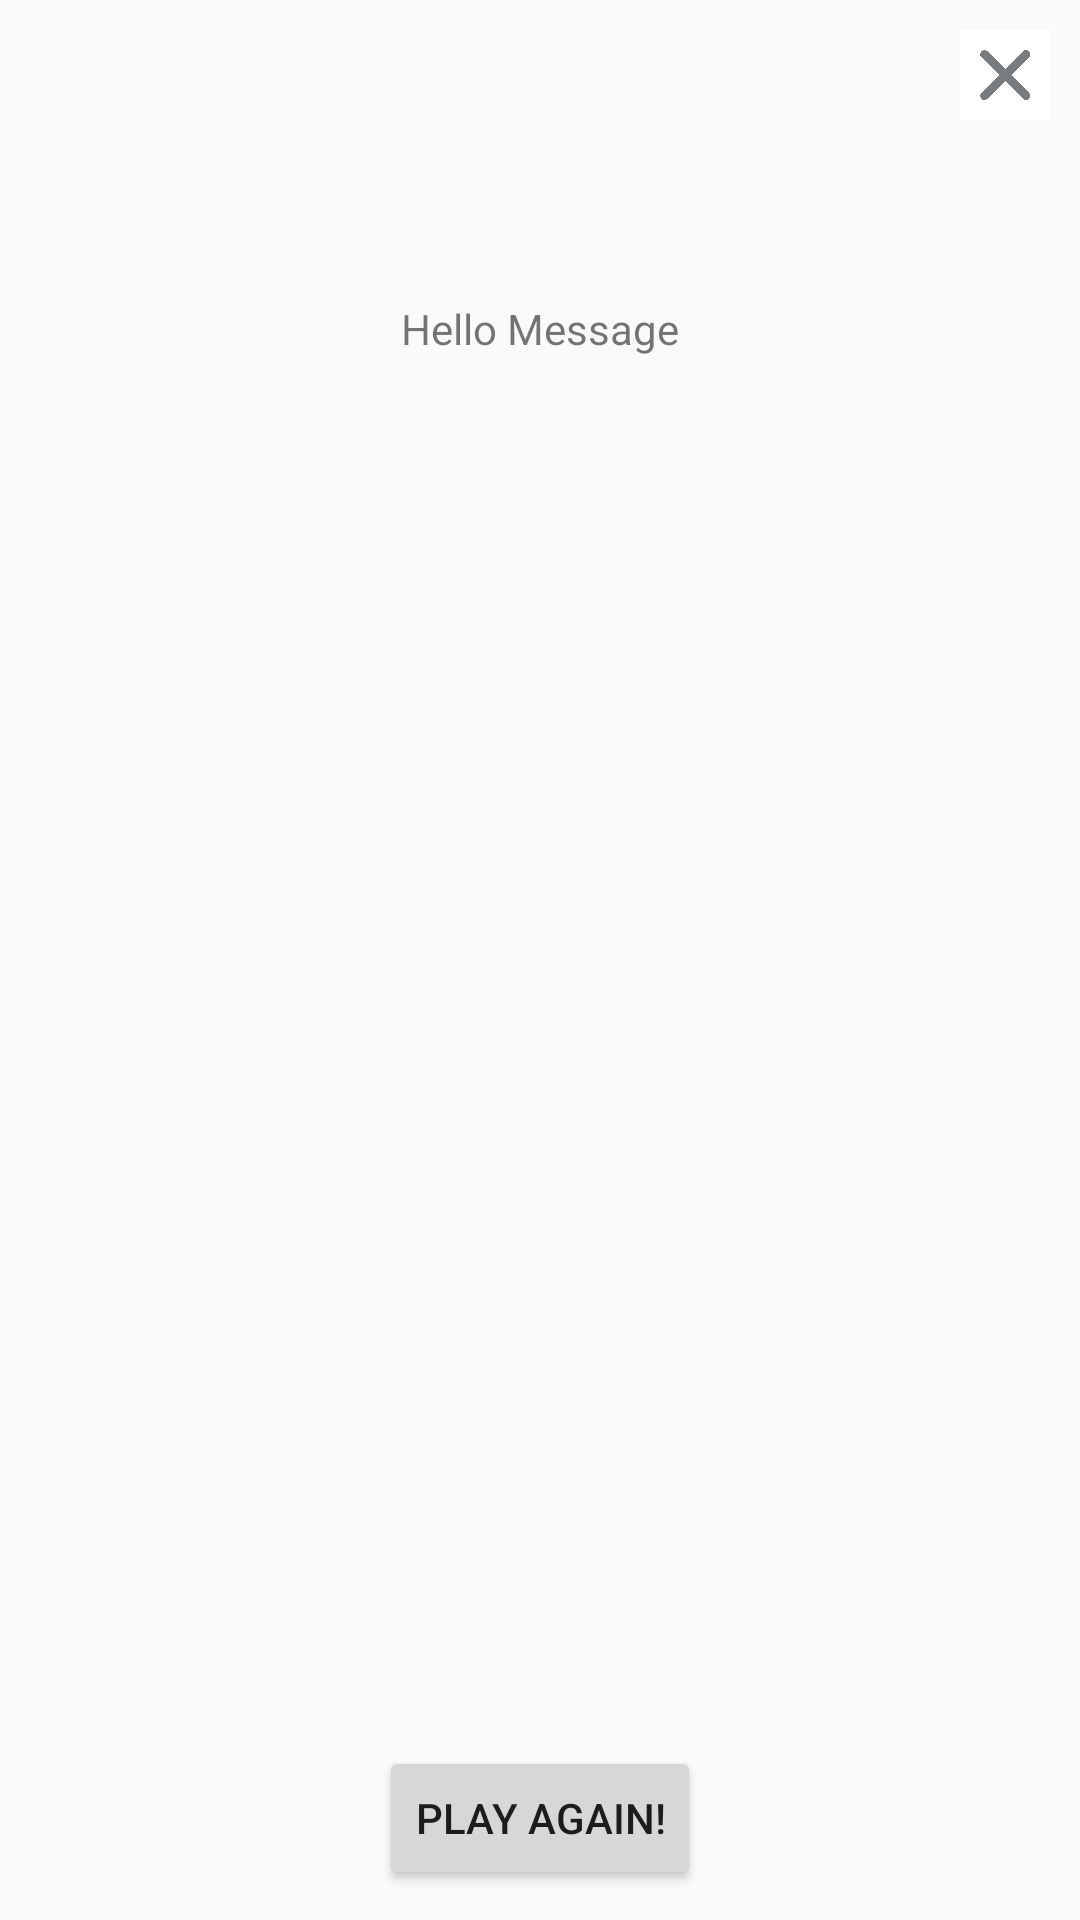

Named icons in this screenshot (1080 × 1920) and their centers, (x,y):
close: (1005,75)
